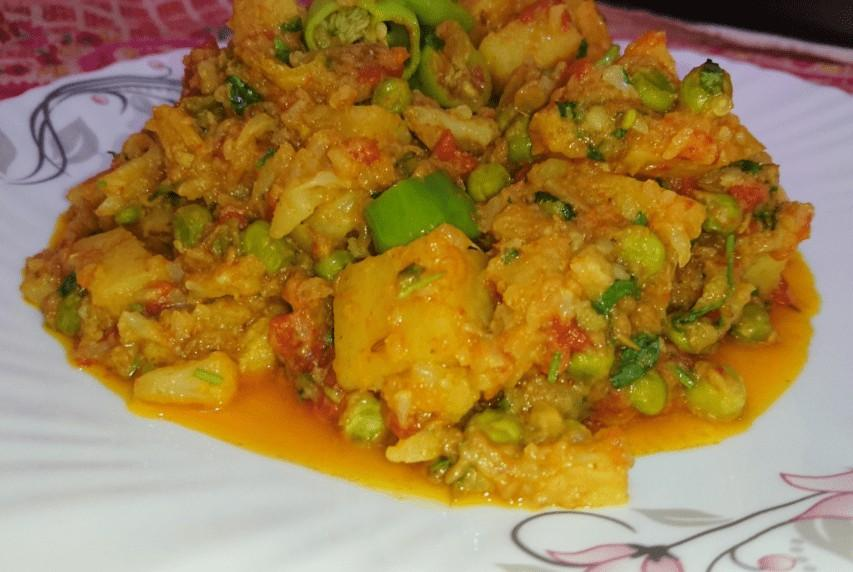AlooGobi: (21, 0, 823, 509)
